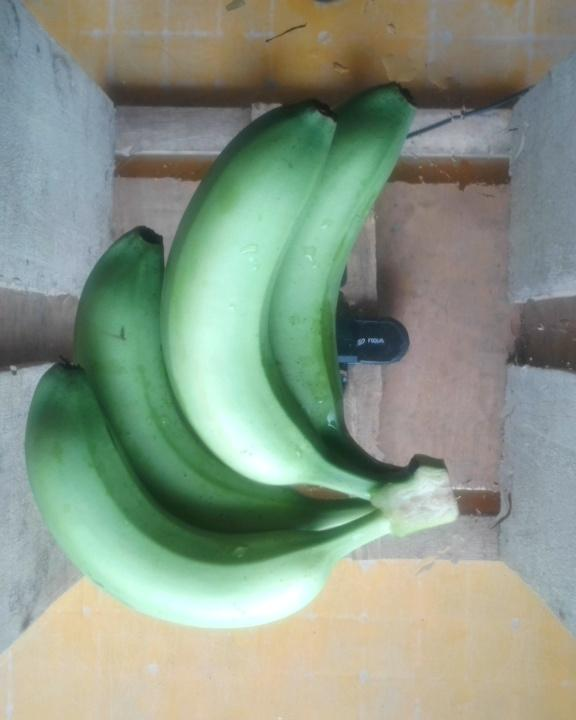SPOT: (25, 77, 484, 635)
